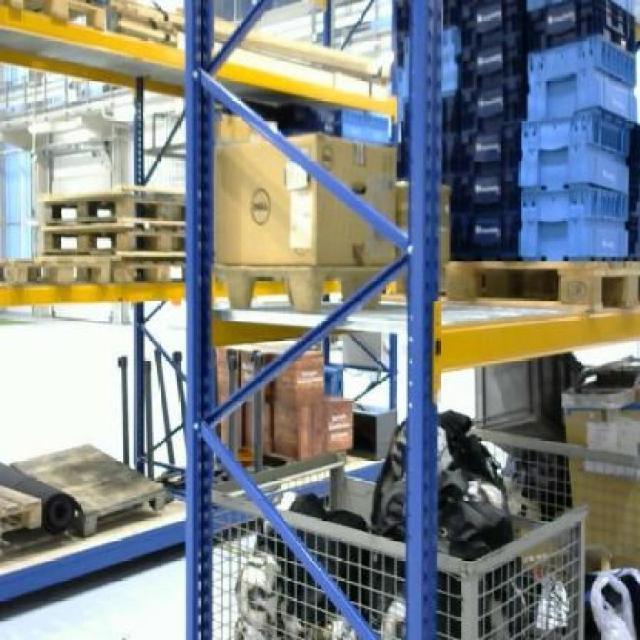box: (212, 133, 396, 267), (272, 402, 326, 464), (270, 351, 324, 404), (321, 395, 354, 453)
